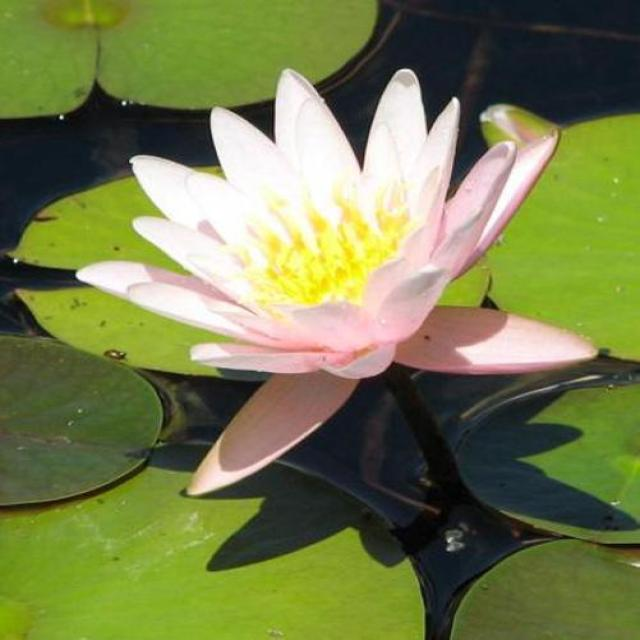water-lily: (77, 51, 594, 462)
